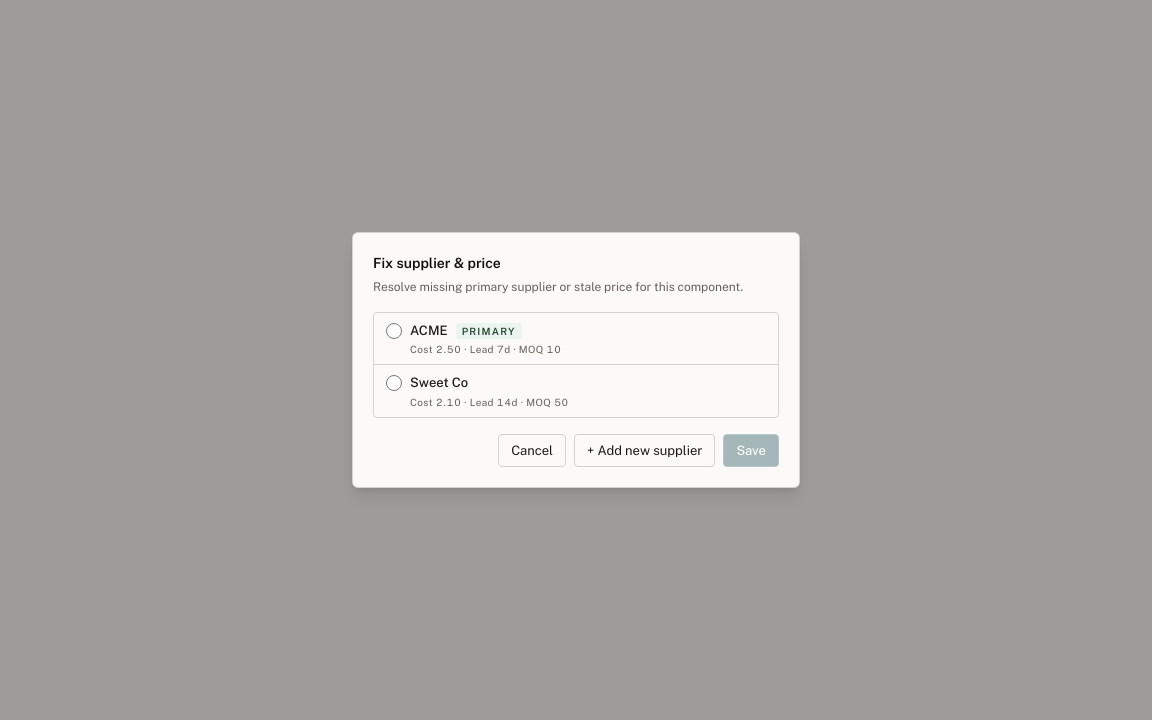
Test case: QuickFixDrawer — Action C entry path › clicking [Swap primary] from a row routes to the SwapPrimaryConfirm panel
The width and height of the screenshot is (1152, 720).
Expected: the text "ACME" is shown, [410, 323, 448, 338]
Step 1. Click the radio button labelled "Sweet Co" → click(394, 384), box [386, 376, 402, 392]
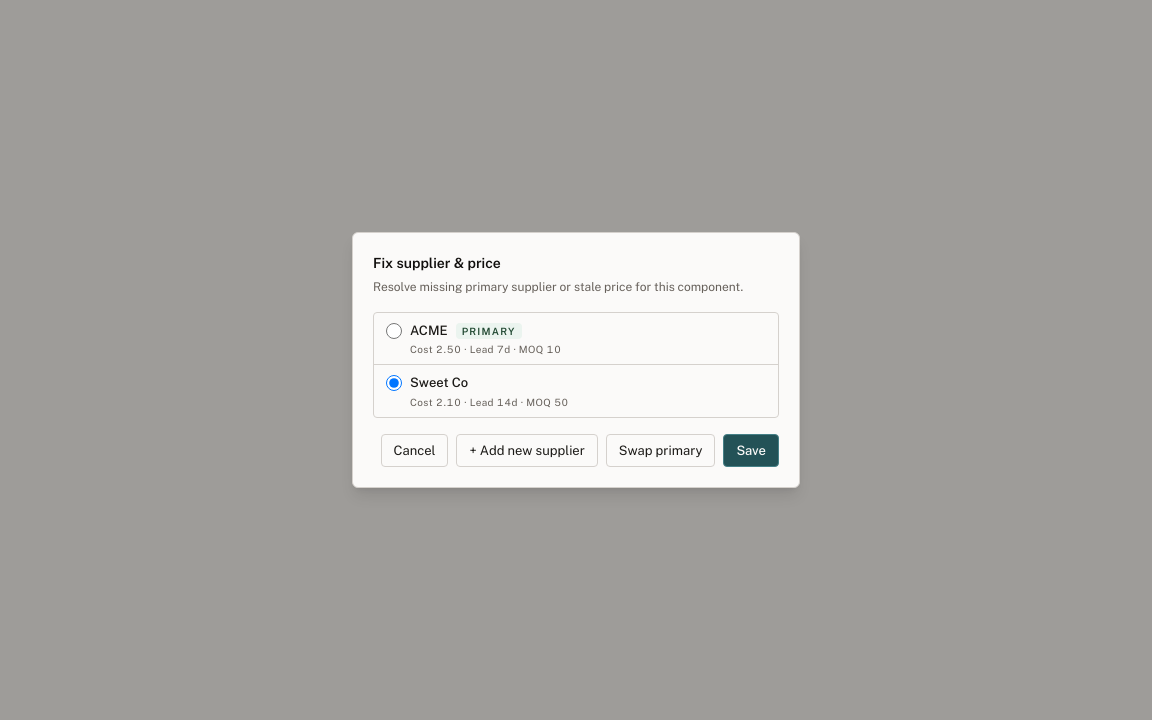
Step 2. Click the button "Swap primary" → click(661, 450), box [606, 434, 715, 467]
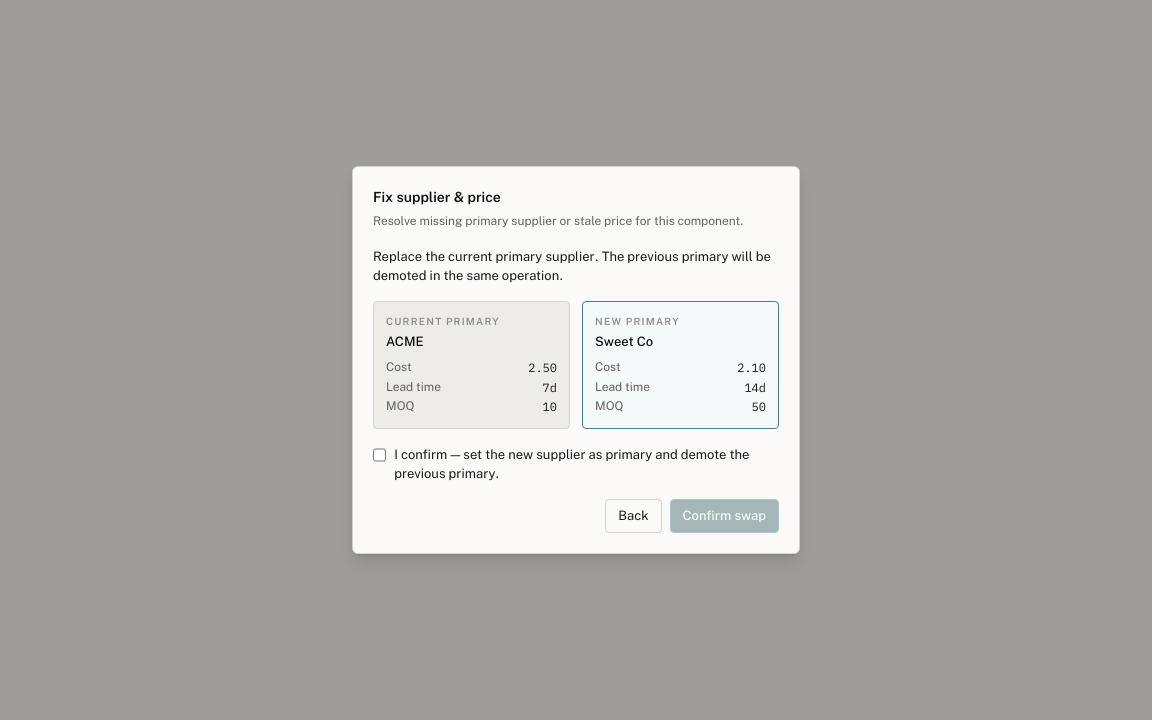
Expected: the text "Current primary" is shown, [386, 315, 500, 327]
Expected: the text "I confirm" is shown, [394, 447, 749, 481]
